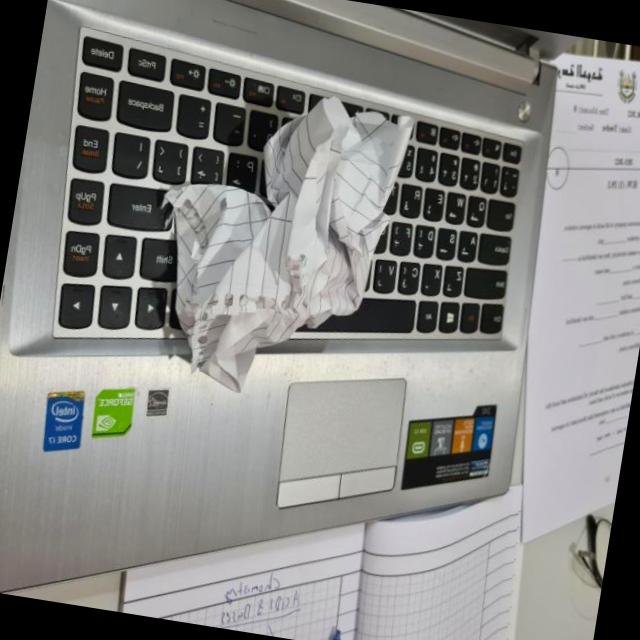cardboard paper: (165, 98, 411, 392), (118, 486, 524, 640), (523, 56, 640, 543)
